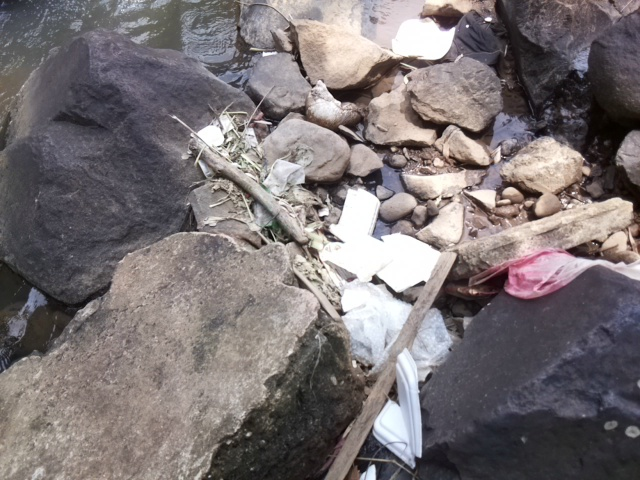Sampah_Plastik: (489, 254, 640, 302)
Sampah_Styrofoam: (313, 194, 456, 437), (387, 18, 457, 59)
